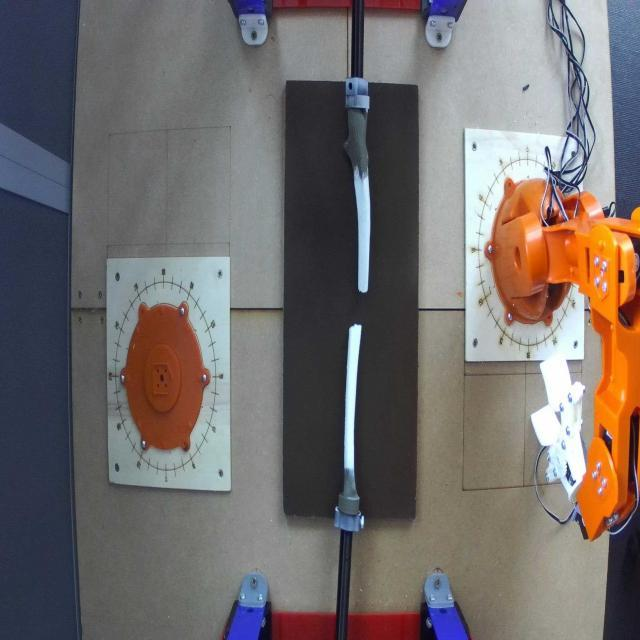bone: (344, 110, 372, 294), (336, 324, 363, 502)
